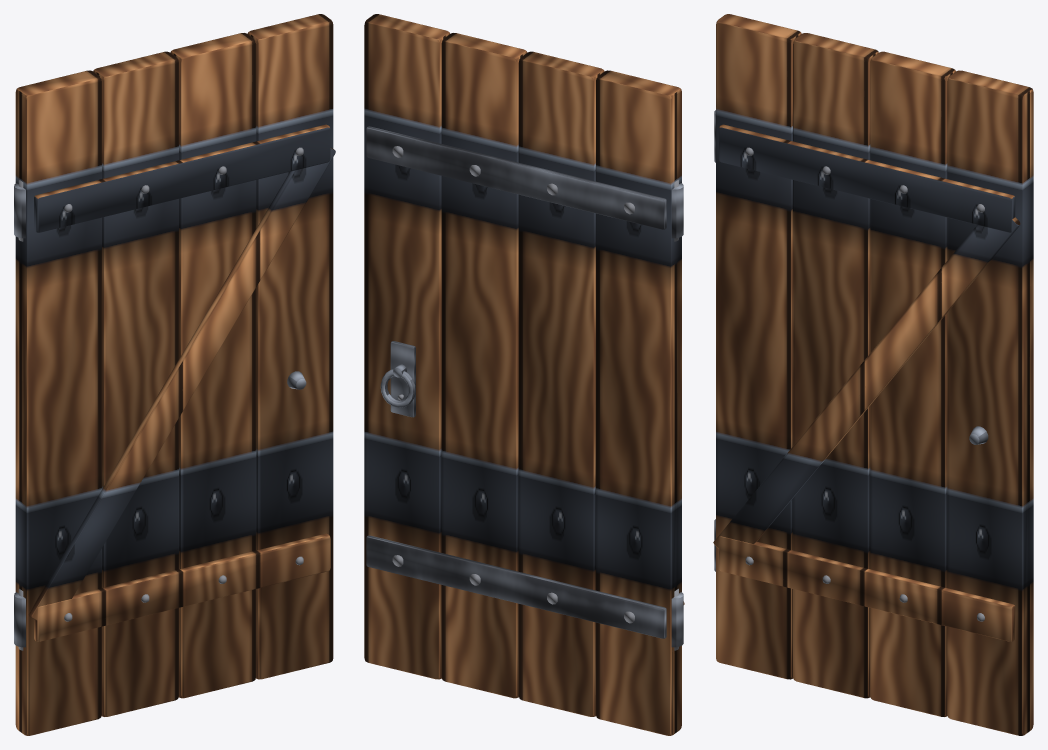
File: door_wooden.glb
3 views of the same model, side by side, from view 1: azimuth 30°, elevation 25°; view 2: azimuth 150°, elevation 25°; view 3: azimuth 330°, elevation 25° (orthographic).
Parts seen in each view (by area): view 1: door_wooden-col; view 2: door_wooden-col; view 3: door_wooden-col.
Boxes of the visible parts, x1,y1,x2,y2 form: door_wooden-col: (14,14,335,735); door_wooden-col: (364,14,684,735); door_wooden-col: (713,14,1033,735).
Bounding box in the file's own units: 1.21 × 2.38 × 0.1921.
3 materials, 2 textured.
